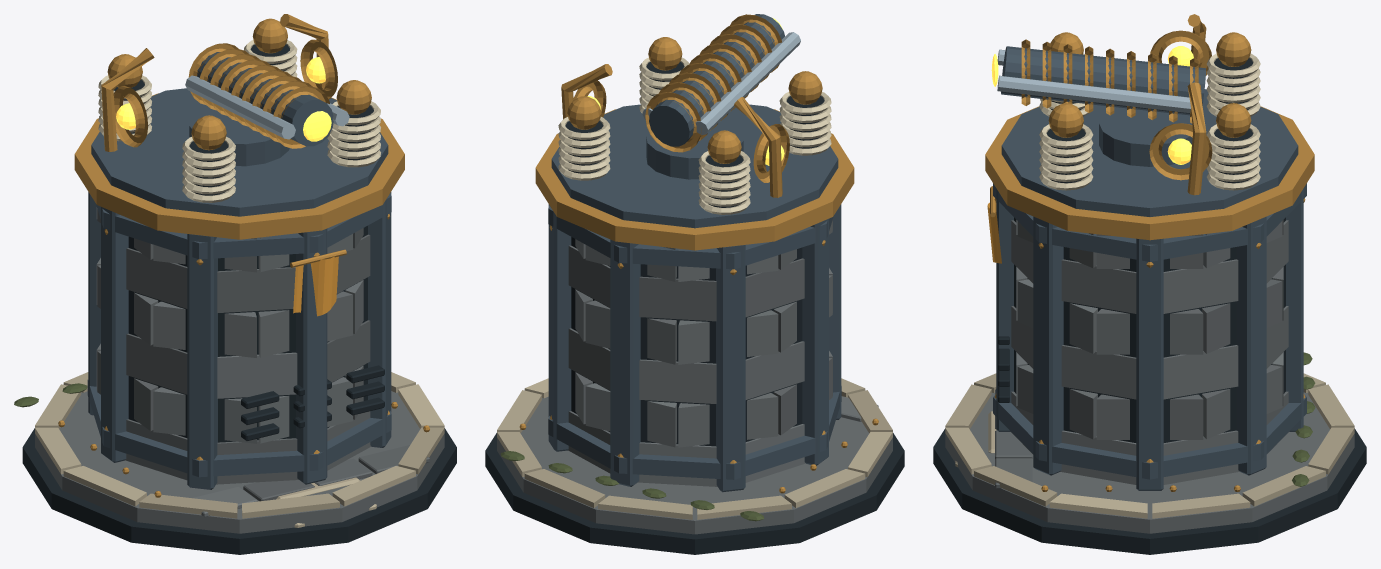
The model's file is lightning__canhao__L20.glb.
3 views of the same model, side by side, from view 1: azimuth 30°, elevation 25°; view 2: azimuth 150°, elevation 25°; view 3: azimuth 270°, elevation 25° (orthographic). The views are drawn at different scales.
Parts seen in each view (by area): view 1: structure, weapon, banners; view 2: structure, weapon; view 3: structure, weapon, banners.
Boxes of the visible parts, bbox=[...] form: structure: bbox=[14, 14, 456, 554]; weapon: bbox=[185, 43, 349, 166]; banners: bbox=[290, 249, 346, 316]; structure: bbox=[485, 37, 904, 554]; weapon: bbox=[642, 14, 800, 179]; structure: bbox=[933, 14, 1366, 554]; weapon: bbox=[991, 39, 1205, 166]; banners: bbox=[987, 186, 1001, 263].
Size of the model in its own units: 0.8624 by 0.9241 by 0.8624.
